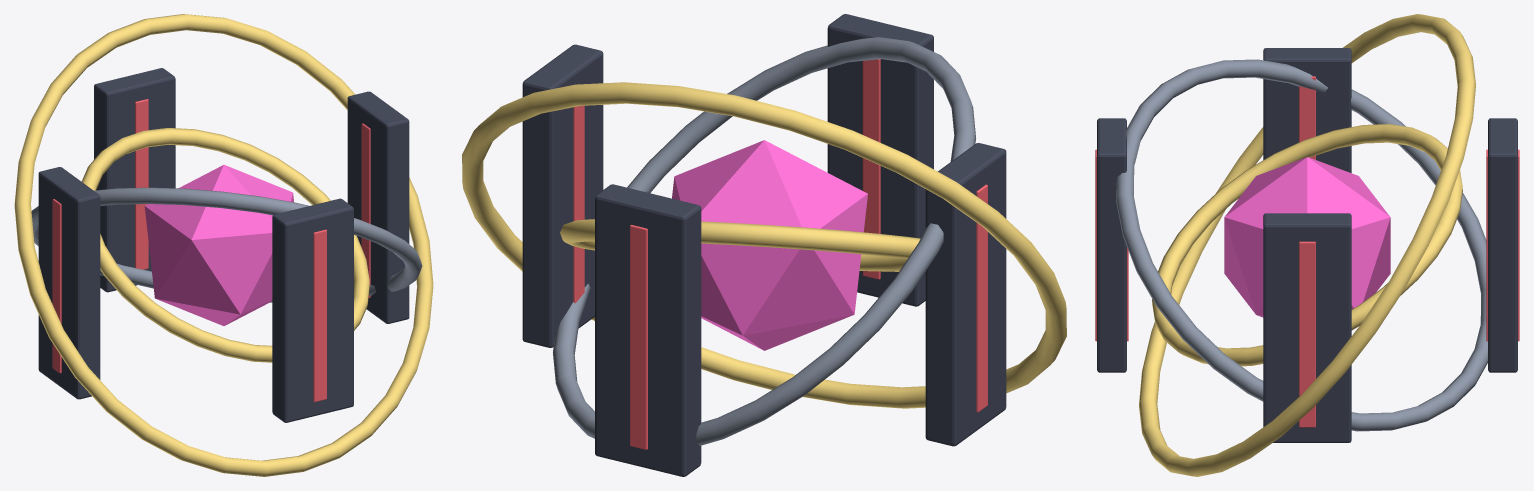
File: Cyber_CoreBoss.fbx
3 views of the same model, side by side, from view 1: azimuth 30°, elevation 25°; view 2: azimuth 150°, elevation 25°; view 3: azimuth 270°, elevation 25° (orthographic). The views are drawn at different scales.
Parts seen in each view (by area): view 1: Boss_GyroRing_2, Boss_ShieldWing_3, Boss_EnergyHeart, Boss_ShieldWing_2, Boss_ShieldWing_0, Boss_GyroRing_0, Boss_ShieldWing_1, Boss_GyroRing_1, Boss_ShieldNeon_3, Boss_ShieldNeon_1, Boss_ShieldNeon_2, Boss_ShieldNeon_0; view 2: Boss_EnergyHeart, Boss_ShieldWing_1, Boss_GyroRing_2, Boss_GyroRing_1, Boss_ShieldWing_2, Boss_ShieldWing_0, Boss_ShieldWing_3, Boss_GyroRing_0, Boss_ShieldNeon_1, Boss_ShieldNeon_3, Boss_ShieldNeon_2, Boss_ShieldNeon_0; view 3: Boss_GyroRing_2, Boss_GyroRing_1, Boss_ShieldWing_0, Boss_EnergyHeart, Boss_GyroRing_0, Boss_ShieldWing_1, Boss_ShieldWing_3, Boss_ShieldWing_2, Boss_ShieldNeon_0, Boss_ShieldNeon_2, Boss_ShieldNeon_1, Boss_ShieldNeon_3.
Part boxes in pixels (left/top/right/bottom): Boss_GyroRing_2: left=14, top=14, right=433, bottom=476; Boss_ShieldWing_3: left=272, top=198, right=353, bottom=422; Boss_EnergyHeart: left=144, top=165, right=293, bottom=325; Boss_ShieldWing_2: left=38, top=167, right=100, bottom=399; Boss_ShieldWing_0: left=347, top=91, right=409, bottom=323; Boss_GyroRing_0: left=81, top=128, right=369, bottom=362; Boss_ShieldWing_1: left=94, top=68, right=175, bottom=292; Boss_GyroRing_1: left=31, top=187, right=422, bottom=302; Boss_ShieldNeon_3: left=313, top=229, right=326, bottom=402; Boss_ShieldNeon_1: left=135, top=99, right=148, bottom=269; Boss_ShieldNeon_2: left=52, top=199, right=61, bottom=373; Boss_ShieldNeon_0: left=361, top=123, right=370, bottom=297; Boss_EnergyHeart: left=672, top=140, right=867, bottom=350; Boss_ShieldWing_1: left=595, top=184, right=701, bottom=476; Boss_GyroRing_2: left=462, top=82, right=1066, bottom=408; Boss_GyroRing_1: left=553, top=37, right=975, bottom=445; Boss_ShieldWing_2: left=925, top=143, right=1006, bottom=446; Boss_ShieldWing_0: left=522, top=44, right=603, bottom=347; Boss_ShieldWing_3: left=827, top=14, right=933, bottom=306; Boss_GyroRing_0: left=560, top=219, right=925, bottom=271; Boss_ShieldNeon_1: left=630, top=225, right=647, bottom=449; Boss_ShieldNeon_3: left=862, top=59, right=880, bottom=279; Boss_ShieldNeon_2: left=976, top=184, right=987, bottom=412; Boss_ShieldNeon_0: left=573, top=105, right=584, bottom=303; Boss_GyroRing_2: left=1139, top=14, right=1475, bottom=476; Boss_GyroRing_1: left=1116, top=59, right=1487, bottom=431; Boss_ShieldWing_0: left=1263, top=213, right=1351, bottom=442; Boss_EnergyHeart: left=1224, top=157, right=1390, bottom=317; Boss_GyroRing_0: left=1152, top=124, right=1462, bottom=366; Boss_ShieldWing_1: left=1488, top=118, right=1517, bottom=372; Boss_ShieldWing_3: left=1097, top=118, right=1126, bottom=372; Boss_ShieldWing_2: left=1263, top=48, right=1351, bottom=172; Boss_ShieldNeon_0: left=1299, top=241, right=1315, bottom=427; Boss_ShieldNeon_2: left=1299, top=76, right=1315, bottom=159; Boss_ShieldNeon_1: left=1486, top=149, right=1519, bottom=341; Boss_ShieldNeon_3: left=1095, top=149, right=1128, bottom=341.
Size of the model in its own units: 5.65 by 4.55 by 4.56.
